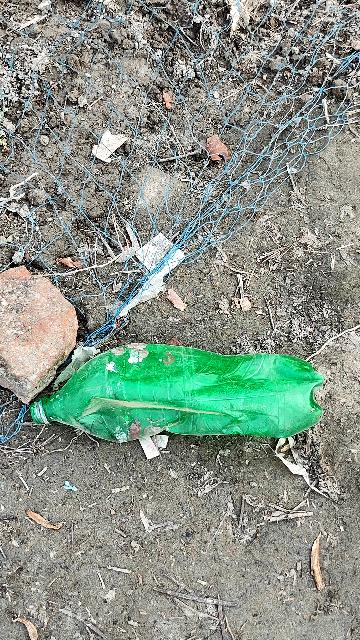bottle: (24, 337, 336, 463)
